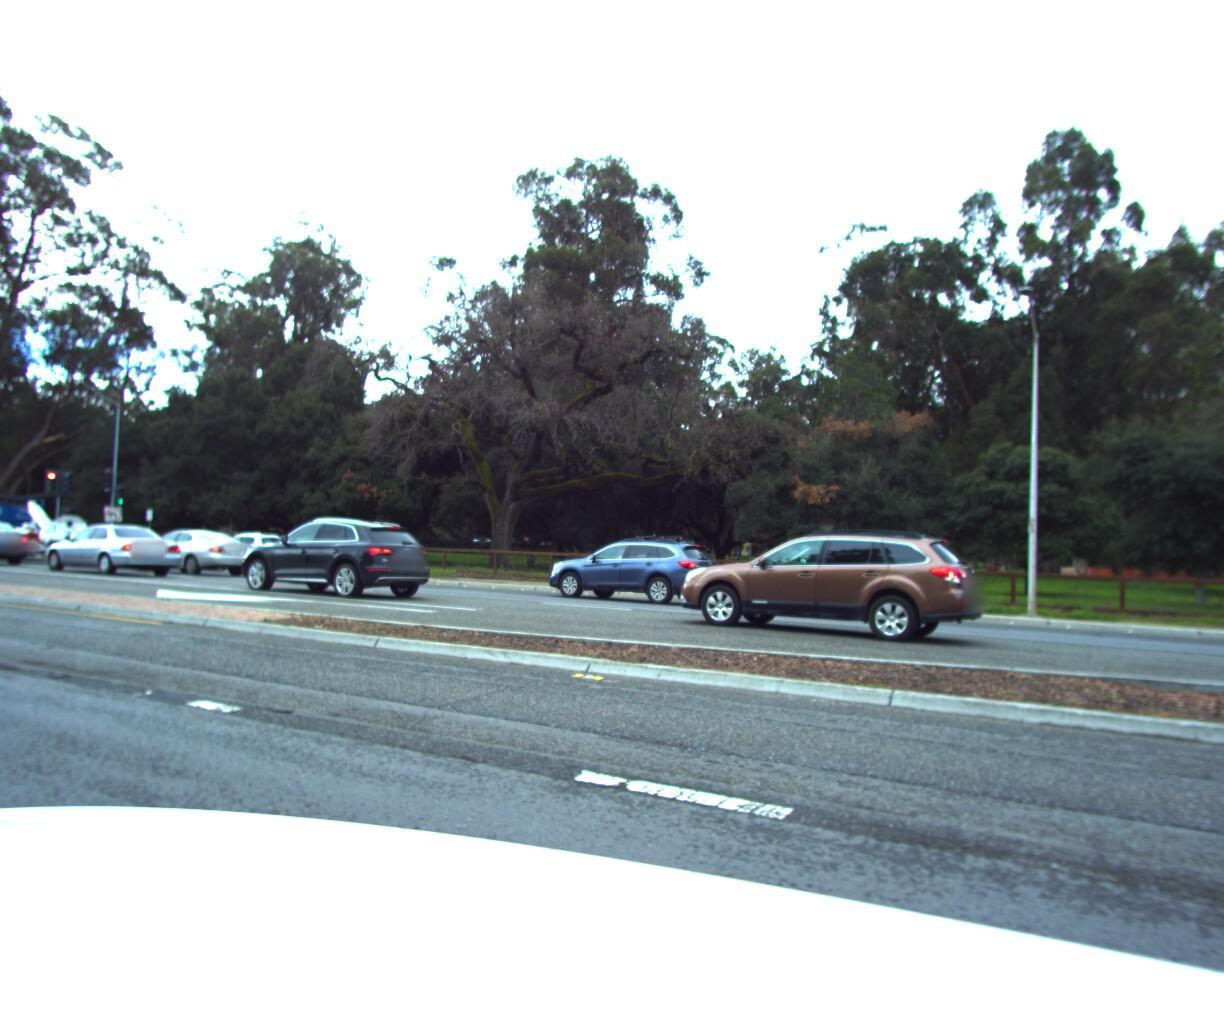car: (680, 513, 1006, 646), (225, 509, 439, 596), (539, 522, 727, 602), (26, 516, 183, 573), (122, 520, 263, 575), (203, 527, 299, 564), (0, 511, 32, 564)
truck: (0, 486, 102, 558)
